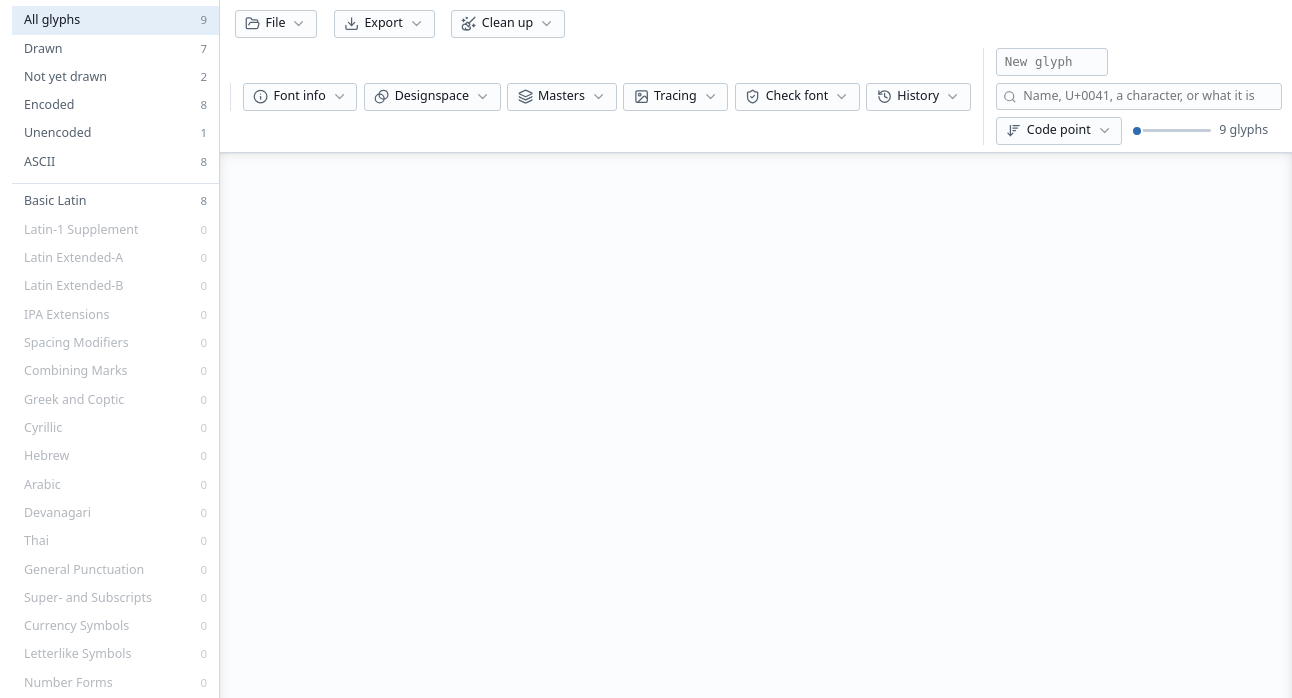
Test case: the bar › says what the list is sorted by, and sorts it another way when asked
Click the button "Code point" at (1059, 131), box [996,117,1122,145]
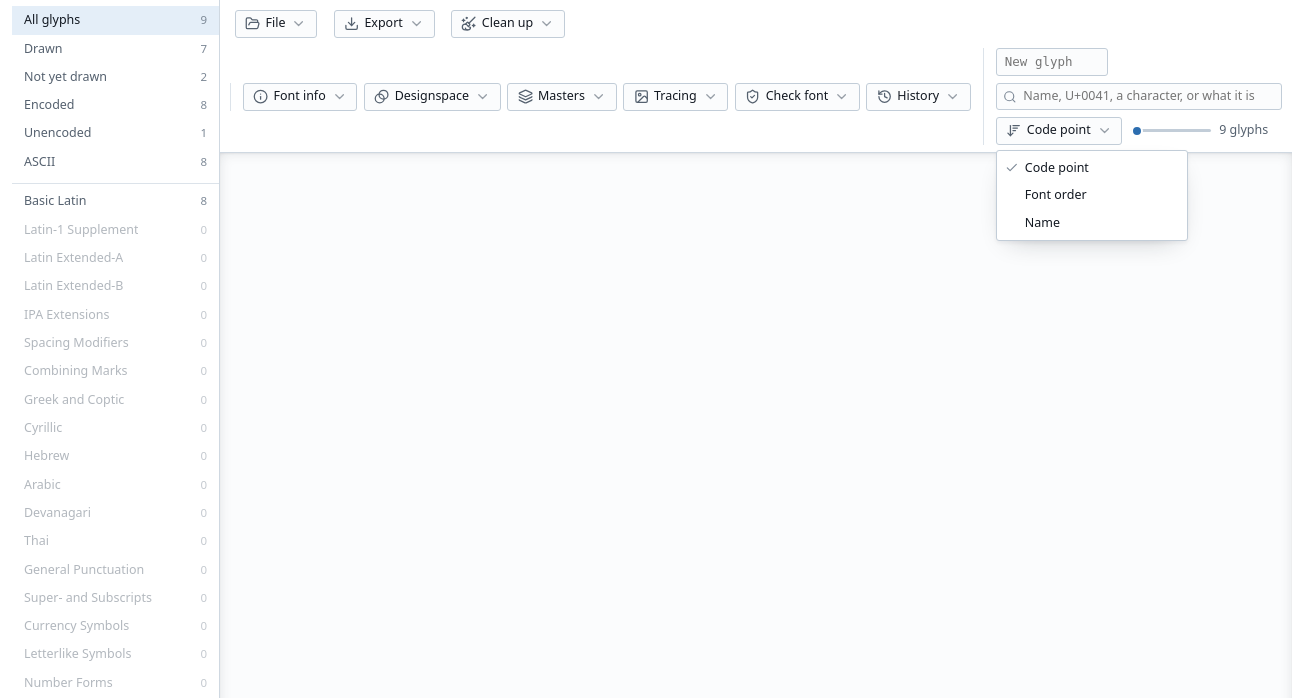
Click the menu item "Name" at (1092, 223), box [1000,210,1184,237]
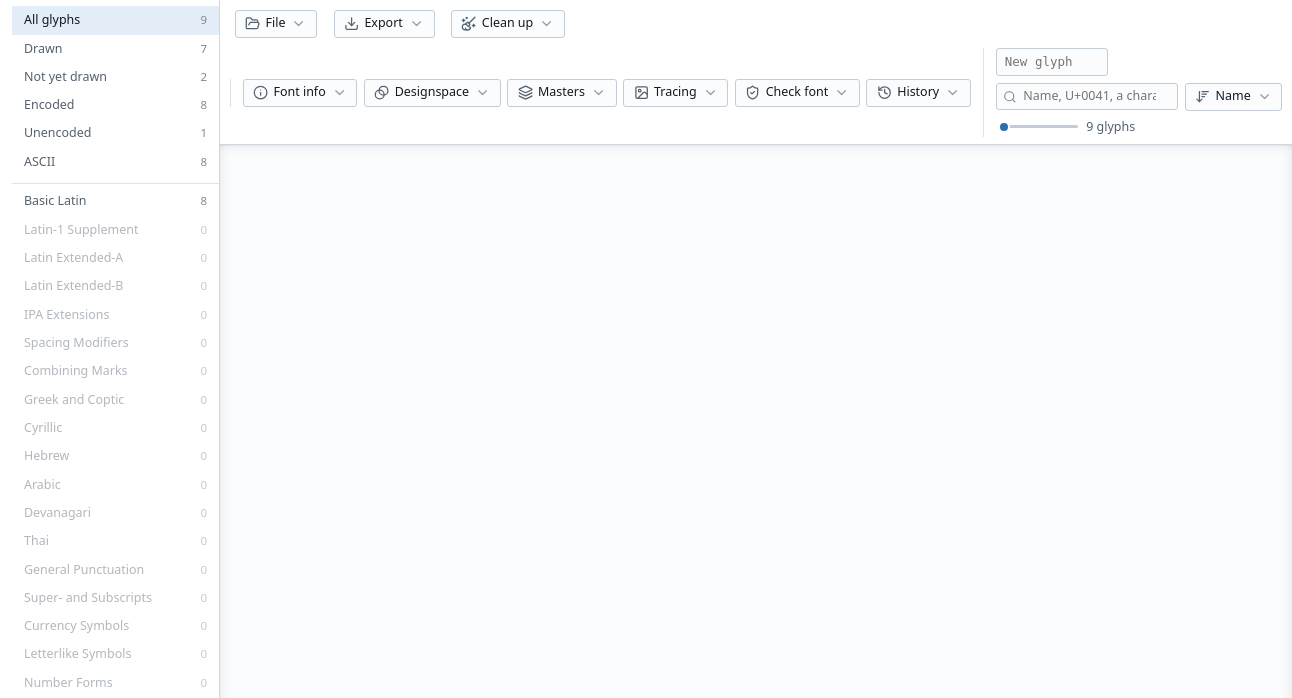
Check: the button "Name" is shown, box [1185,83,1282,111]
